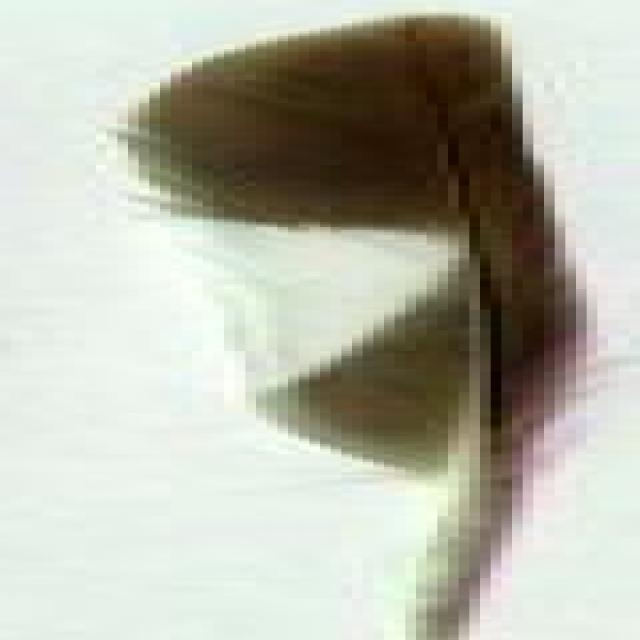feather: (112, 11, 604, 640)
